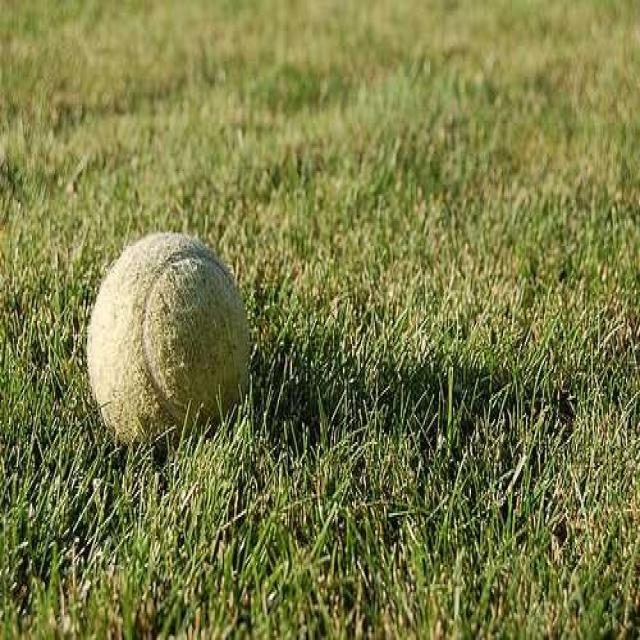Tennis_Ball: (87, 228, 251, 442)
